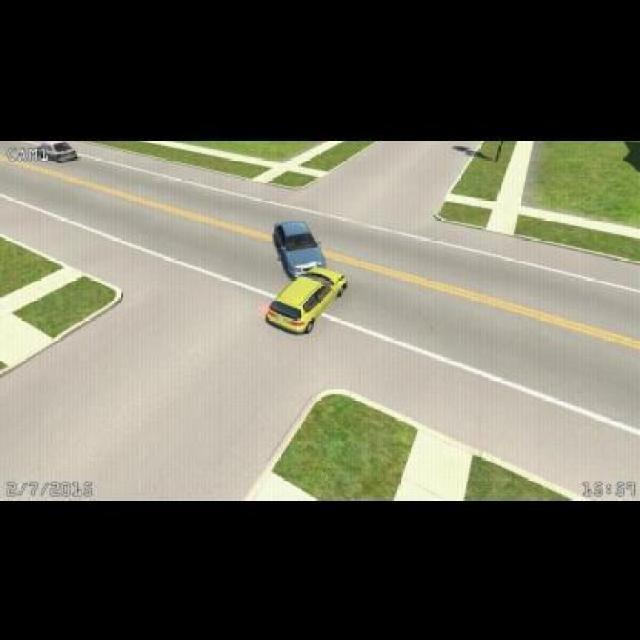accident: (282, 242, 346, 308)
